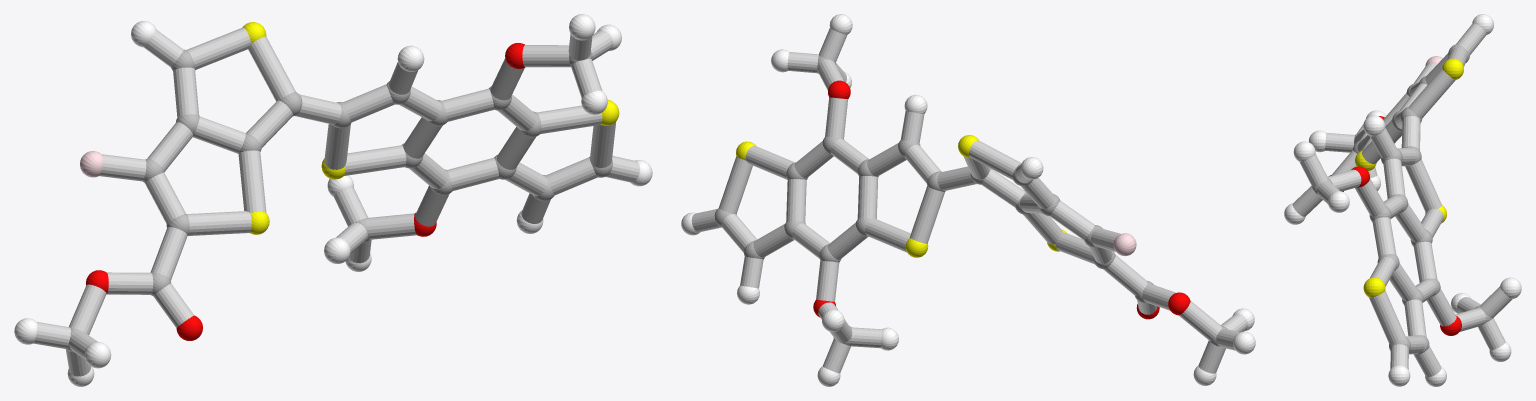
Rendered from Dimethoxy_Benzodithiophene_Phi_25_Theta_60_Methylcarbonyl_3_Fluoro_Thienothiophene.glb.
The picture shows the model from 3 angles, left to right: view 1: azimuth 30°, elevation 25°; view 2: azimuth 150°, elevation 25°; view 3: azimuth 270°, elevation 25°; orthographic projection. The views are drawn at different scales.
Visible parts, largest first — view 1: grp15205, grp8689, grp1, grp13395, grp7241; view 2: grp15205, grp8689, grp1, grp13395, grp7241; view 3: grp15205, grp8689, grp1, grp7241, grp13395.
Boxes of the visible parts, <box> form: grp15205: <box>33,27,639,376</box>; grp8689: <box>14,14,652,386</box>; grp1: <box>66,49,612,352</box>; grp13395: <box>86,43,525,340</box>; grp7241: <box>242,22,619,234</box>; grp15205: <box>691,28,1247,373</box>; grp8689: <box>681,14,1255,386</box>; grp1: <box>714,56,1227,346</box>; grp13395: <box>813,80,1190,319</box>; grp7241: <box>736,135,1066,257</box>; grp15205: <box>1292,23,1512,376</box>; grp8689: <box>1284,14,1521,386</box>; grp1: <box>1312,44,1492,354</box>; grp7241: <box>1355,58,1463,297</box>; grp13395: <box>1329,116,1461,335</box>.
Bounding box in the file's own units: 16.85 × 7.87 × 6.5.
